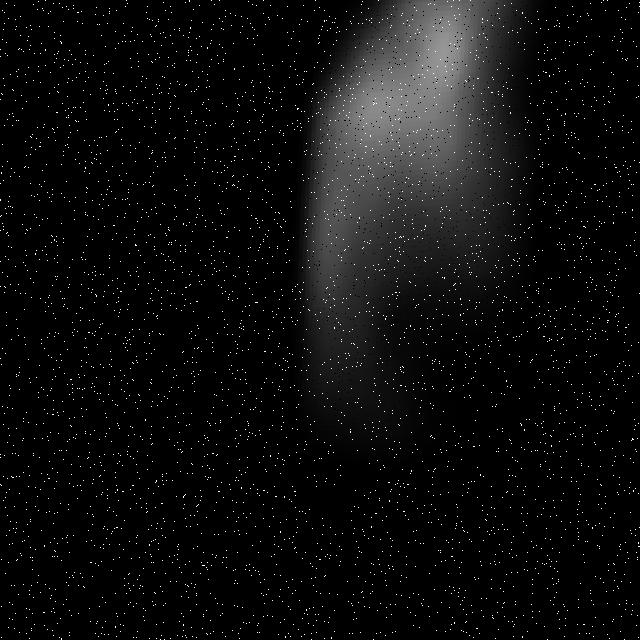person: (257, 1, 616, 542)
